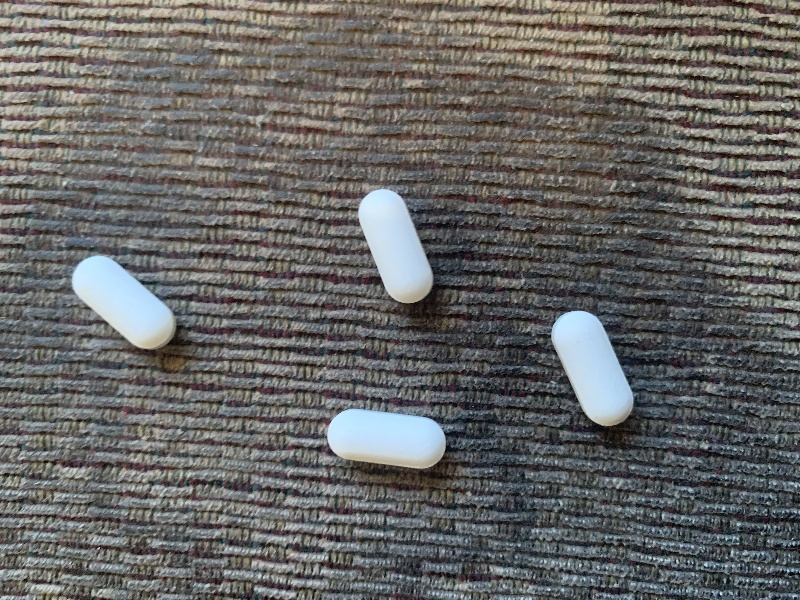Tylenol: (56, 253, 193, 360), (545, 307, 646, 429), (347, 189, 439, 308), (324, 403, 454, 476)
